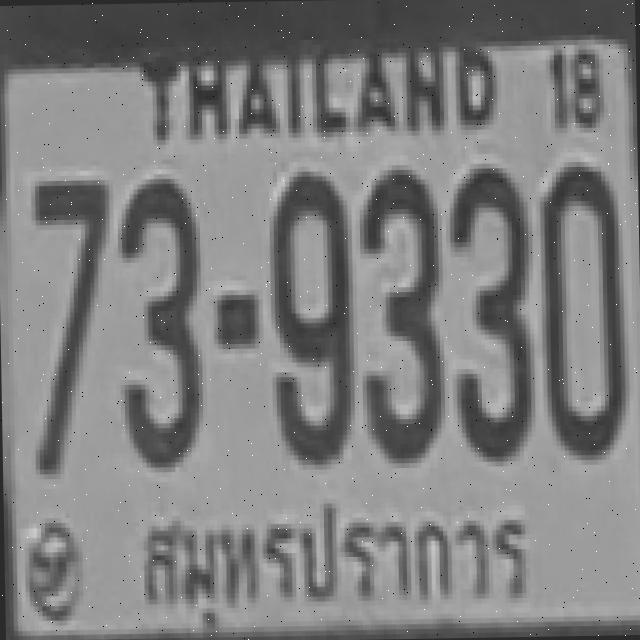0: (539, 158, 622, 452)
3: (356, 169, 444, 458), (115, 178, 202, 463), (446, 162, 530, 456), (446, 197, 530, 457)
7: (30, 175, 108, 396), (30, 177, 107, 374)
9: (268, 175, 351, 460), (269, 219, 351, 460)
SamutPrakan: (124, 476, 538, 629)
